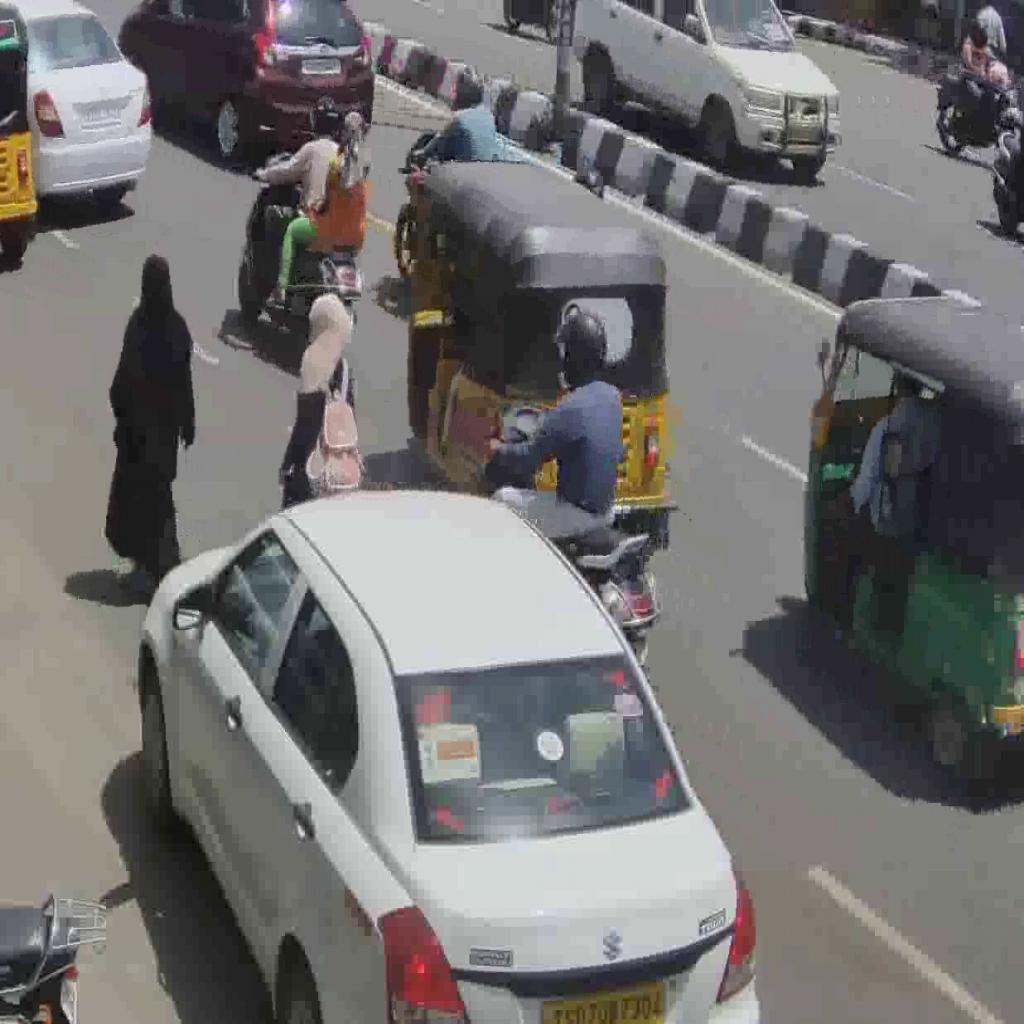bike: (471, 399, 663, 675), (237, 149, 365, 347)
helmet: (554, 308, 610, 390), (308, 94, 341, 140)
no_helmet: (343, 110, 366, 150)
noise: (935, 14, 1023, 158)
rider: (486, 308, 624, 542), (265, 110, 367, 306), (250, 94, 342, 296)
